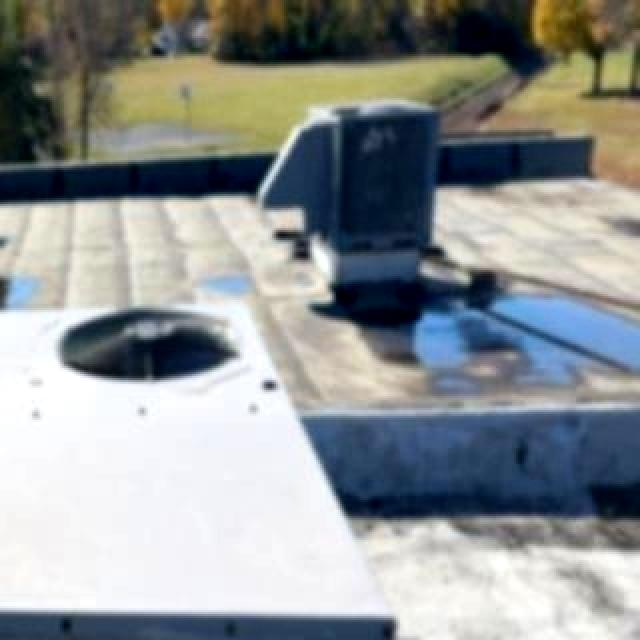RTU: (242, 92, 444, 296)
SPLIT-SYSTEM: (0, 292, 406, 640)
